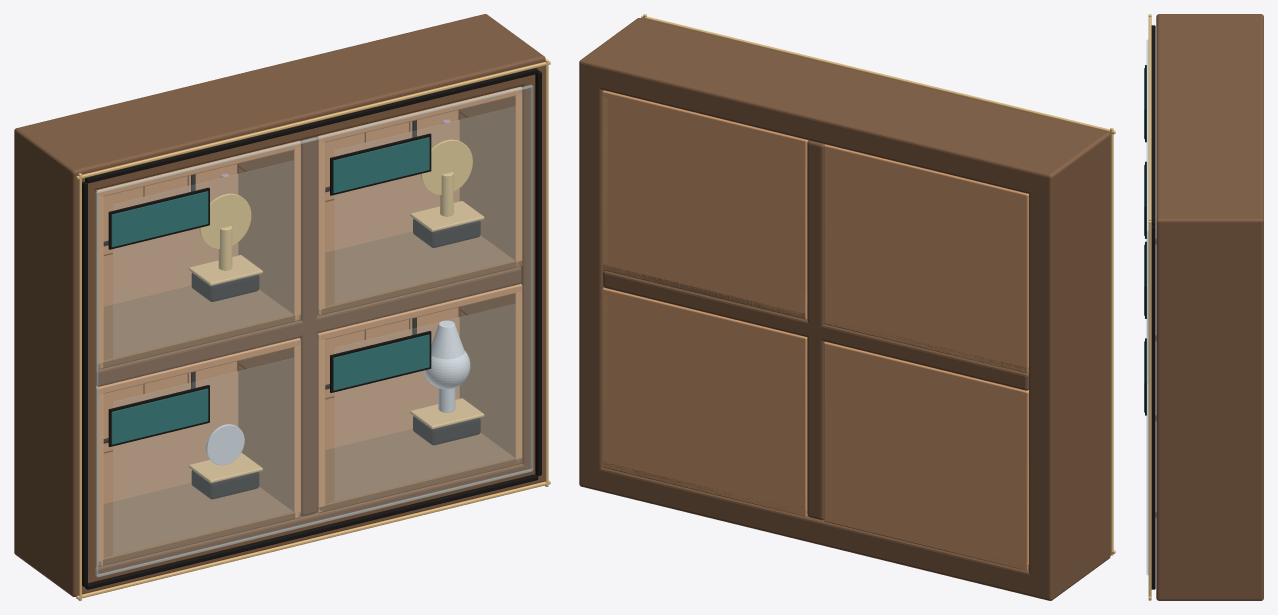
File: wooden-gallery-cabinet-v5.glb
3 views of the same model, side by side, from view 1: azimuth 30°, elevation 25°; view 2: azimuth 150°, elevation 25°; view 3: azimuth 270°, elevation 25° (orthographic). The views are drawn at different scales.
Visible parts, largest first — view 1: front-glass-outer-pane, outer-frame-top, outer-frame-left, slot-2.front-glass-pane, slot-0.front-glass-pane, slot-3.front-glass-pane, slot-1.front-glass-pane, slot-2.back-panel, outer-frame-bottom, slot-0.floor-panel, slot-2.floor-panel, slot-1.floor-panel (+52 smaller); view 2: outer-frame-top, slot-2.back-panel, slot-0.back-panel, slot-3.back-panel, slot-1.back-panel, outer-frame-left, outer-frame-bottom, outer-frame-right, divider-horizontal-core, divider-vertical-core, brass-outer-top, brass-outer-left (+5 smaller); view 3: outer-frame-right, outer-frame-top, outer-frame-bottom, lacquer-outer-right-rib, brass-outer-right, front-glass-outer-right-edge, lacquer-outer-top-rib, outer-frame-left, brass-outer-top, front-glass-outer-top-edge, front-glass-outer-left-edge, front-glass-outer-bottom-edge.
Boxes of the visible parts, x1,y1,x2,y2 form: front-glass-outer-pane: (99,88,530,573); outer-frame-top: (14,14,545,192); outer-frame-left: (14,124,95,596); slot-2.front-glass-pane: (113,358,293,554); slot-0.front-glass-pane: (113,161,293,357); slot-3.front-glass-pane: (335,304,514,500); slot-1.front-glass-pane: (335,107,514,302); slot-2.back-panel: (103,361,238,503); outer-frame-bottom: (14,461,544,596); slot-0.floor-panel: (96,285,300,369); slot-2.floor-panel: (98,483,300,566); slot-1.floor-panel: (317,231,522,315); outer-frame-top: (580,18,1110,196); slot-2.back-panel: (824,343,1028,570); slot-0.back-panel: (824,145,1028,373); slot-3.back-panel: (602,287,807,516); slot-1.back-panel: (603,96,808,319); outer-frame-left: (1029,127,1110,600); outer-frame-bottom: (579,465,1110,600); outer-frame-right: (579,18,657,490); divider-horizontal-core: (603,270,1028,390); divider-vertical-core: (807,140,824,520); brass-outer-top: (641,15,1115,134); brass-outer-left: (1110,128,1113,555); outer-frame-right: (1156,210,1263,600); outer-frame-top: (1156,14,1263,239); outer-frame-bottom: (1156,581,1263,600); lacquer-outer-right-rib: (1151,225,1155,587); brass-outer-right: (1148,218,1151,600); front-glass-outer-right-edge: (1146,230,1148,574); lacquer-outer-top-rib: (1151,25,1155,225); outer-frame-left: (1158,14,1261,22); brass-outer-top: (1148,17,1151,223); front-glass-outer-top-edge: (1146,39,1148,231); front-glass-outer-left-edge: (1147,40,1148,383); front-glass-outer-bottom-edge: (1147,384,1148,575).
Size of the model in its own units: 5.55 by 4.78 by 1.36.
